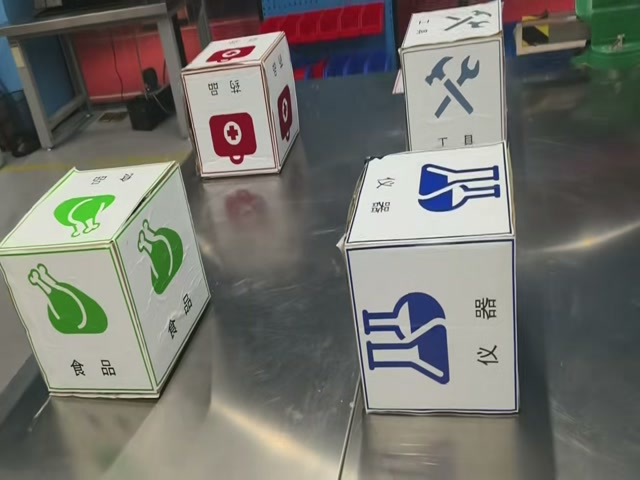Cube_food: (0, 163, 175, 257)
Cube_ins: (343, 143, 513, 245)
Cube_medicine: (182, 32, 284, 74)
Cube_tool: (399, 1, 502, 55)
